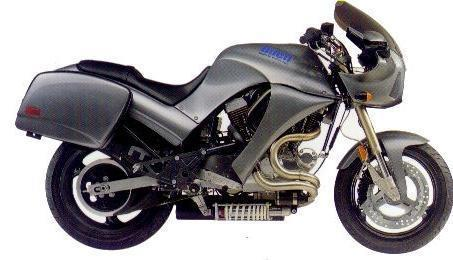motorcycle: (11, 5, 453, 259)
